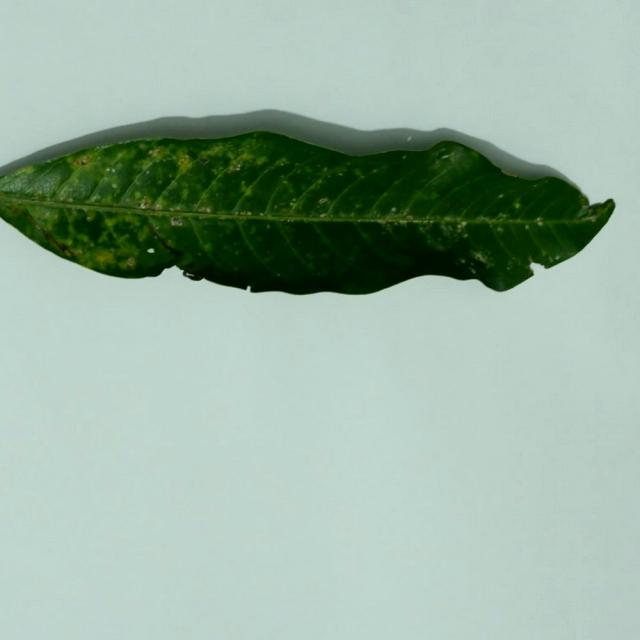Mango: (0, 130, 614, 294)
Powdery_Mildew: (58, 175, 96, 200), (437, 146, 474, 166), (177, 183, 195, 204), (237, 210, 289, 217), (249, 154, 268, 169), (12, 165, 35, 177), (350, 168, 367, 182), (504, 260, 519, 274), (348, 199, 364, 212), (472, 251, 488, 264), (467, 259, 482, 272), (92, 143, 113, 152), (575, 205, 590, 217), (578, 194, 589, 208), (582, 213, 597, 223), (178, 155, 191, 166), (131, 188, 143, 199), (77, 156, 90, 166), (149, 148, 162, 157), (272, 203, 284, 212), (528, 263, 537, 275), (172, 217, 183, 226), (198, 157, 210, 165), (456, 223, 466, 232), (546, 257, 556, 266), (240, 180, 248, 191), (403, 214, 415, 221), (86, 213, 95, 222), (526, 256, 534, 266), (497, 212, 508, 219), (128, 259, 137, 267), (318, 198, 328, 205), (74, 249, 83, 256), (140, 202, 148, 209), (147, 247, 155, 254), (535, 217, 544, 223), (232, 164, 241, 170), (444, 155, 453, 161), (514, 202, 521, 209), (469, 267, 476, 274), (155, 204, 163, 210), (306, 254, 313, 260), (497, 227, 504, 233), (234, 251, 240, 258), (291, 202, 297, 209), (382, 230, 388, 237), (461, 221, 468, 227), (497, 194, 505, 199), (319, 212, 327, 217), (290, 199, 296, 205), (112, 183, 118, 189), (524, 224, 530, 230), (205, 207, 211, 213), (391, 206, 397, 212), (246, 285, 252, 291), (322, 167, 329, 172), (280, 176, 287, 181), (148, 150, 155, 155), (537, 221, 544, 226), (532, 183, 539, 188), (168, 206, 175, 211), (553, 255, 560, 260), (286, 218, 293, 223), (67, 197, 73, 202), (460, 259, 466, 264), (246, 210, 252, 215), (156, 225, 161, 231), (104, 168, 110, 173), (406, 136, 412, 141), (266, 224, 271, 229), (338, 172, 343, 177), (292, 197, 297, 202), (463, 233, 468, 238), (266, 250, 271, 255), (280, 174, 284, 179), (146, 170, 150, 175), (111, 168, 116, 172), (402, 155, 407, 159), (46, 159, 51, 163), (198, 252, 202, 256), (277, 273, 281, 277)
